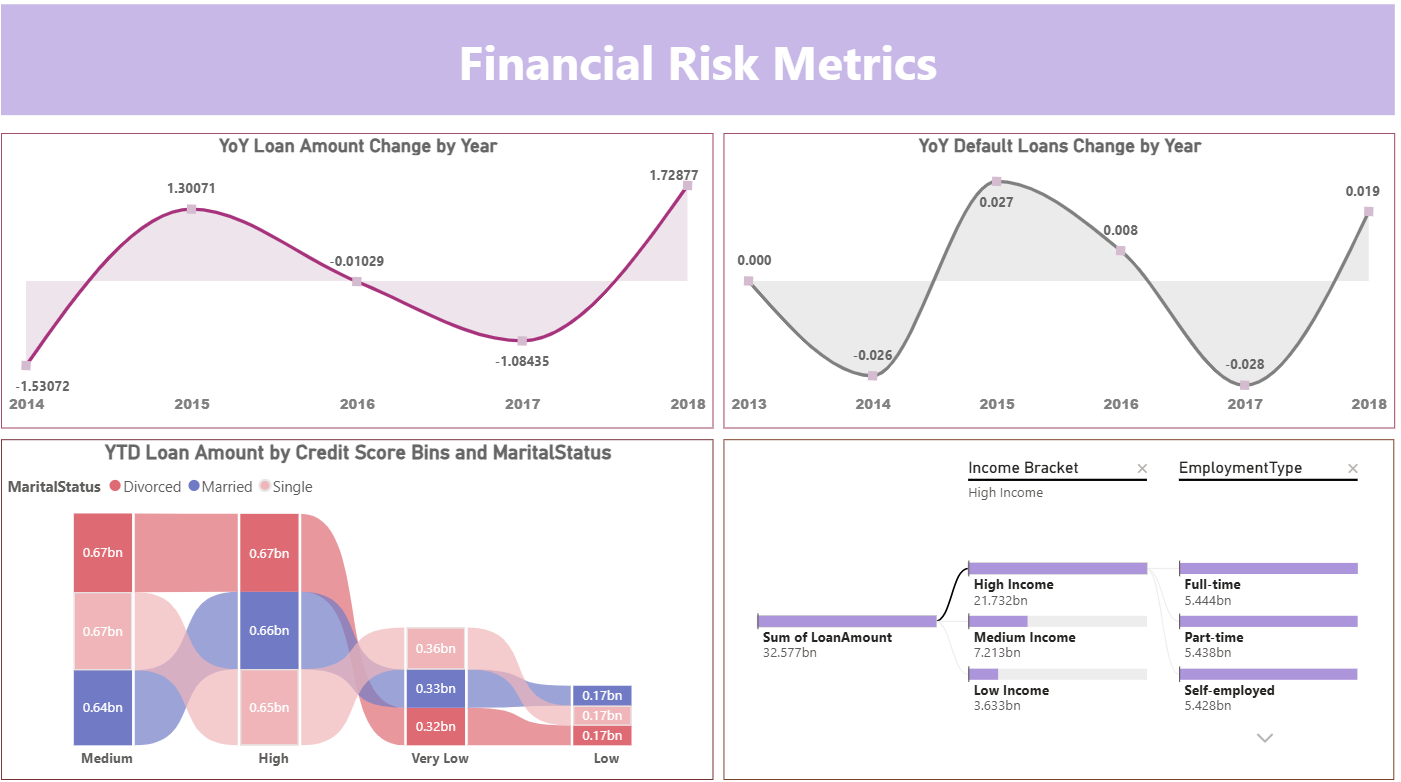

What the dashboard file says about the page in this screenshot:
{"tool":"powerbi","page":{"name":"Financial Risk Metrics","canvas":[1280,720],"ordinal":2},"visuals":[{"type":"lineChart","title":"YoY Loan Amount Change by Year","fields":{"Category":["Calendar Table.Year"],"Y":["_Measure 3.YoY Change"]},"box":[13.5,126.5,642.5,266.5],"z":0},{"type":"shape","box":[13.7,9.6,1257,100.2],"z":1000},{"type":"lineChart","fields":{"Category":["Calendar Table.Year"],"Y":["_Measure 3.YoY Default Loans Change"]},"box":[665.1,126.5,605.2,266.5],"z":2000},{"type":"ribbonChart","fields":{"Y":["_Measure 3.YTD Loan Amount"],"Category":["Loan+Dataset+Link.Credit Score Bins"],"Series":["Loan+Dataset+Link.MaritalStatus"]},"box":[13.5,402,642.5,307.1],"z":3000},{"type":"decompositionTreeVisual","fields":{"Analyze":["Sum(Loan+Dataset+Link.LoanAmount)"],"ExplainBy":["Loan+Dataset+Link.Income Bracket","Loan+Dataset+Link.EmploymentType"]},"box":[665,402,605,307],"z":4000}]}

Visuals, with their boxes in screenshot pixels (x1, y1, x2, y2), scaled from the page's 1280x720 canvas onto the 1401x782 screenshot:
"YoY Loan Amount Change by Year" lineChart: Rect(15, 137, 718, 427)
shape: Rect(15, 10, 1391, 119)
lineChart - Calendar Table.Year x _Measure 3.YoY Default Loans Change: Rect(728, 137, 1390, 427)
ribbonChart - _Measure 3.YTD Loan Amount x Loan+Dataset+Link.Credit Score Bins: Rect(15, 437, 718, 770)
decompositionTreeVisual - Sum(Loan+Dataset+Link.LoanAmount) x Loan+Dataset+Link.Income Bracket: Rect(728, 437, 1390, 770)
